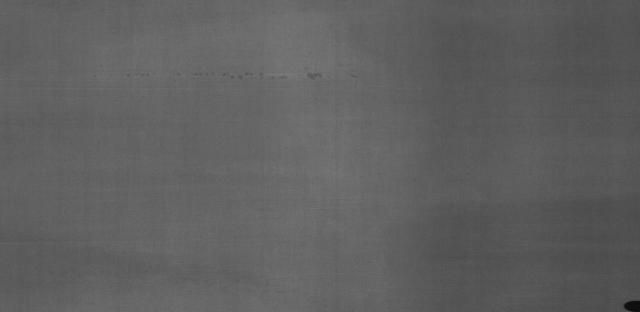punching_hole: (623, 299, 640, 312)
water_spot: (127, 67, 340, 84)
